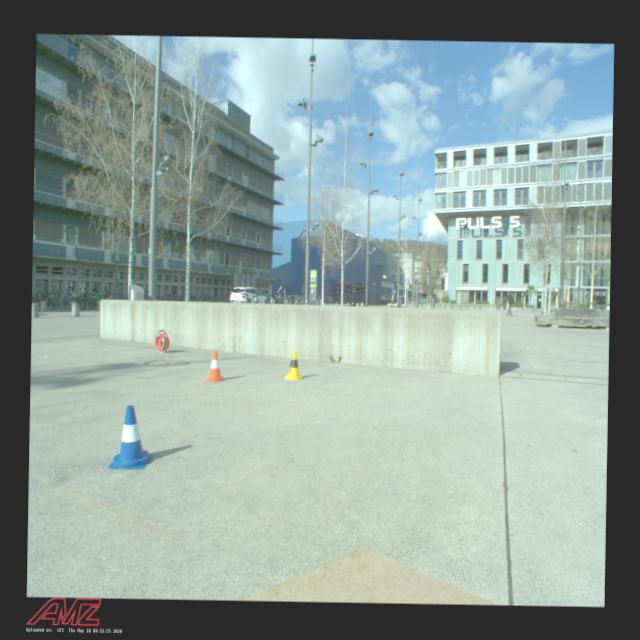blue_cone: (108, 404, 154, 468)
orange_cone: (204, 350, 227, 382)
yellow_cone: (283, 350, 304, 380)
